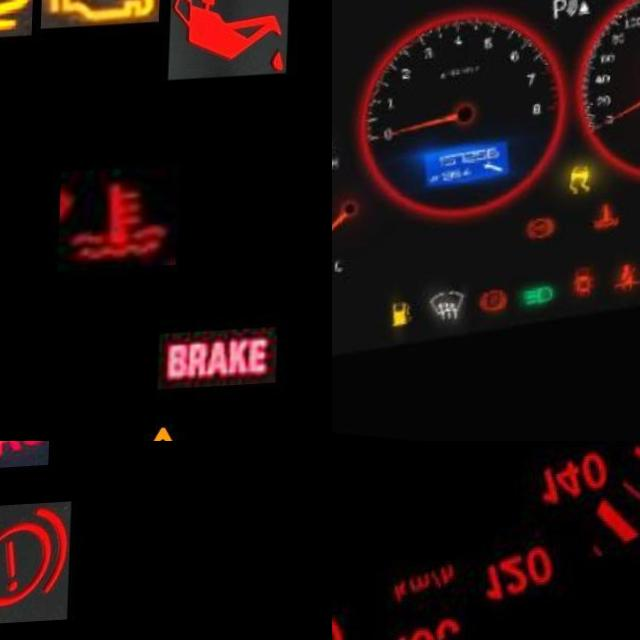Central Warning lamp: (105, 413, 226, 441)
Engine cooling system: (61, 171, 181, 276), (581, 207, 619, 245)
Low fuel level: (382, 301, 412, 334)
